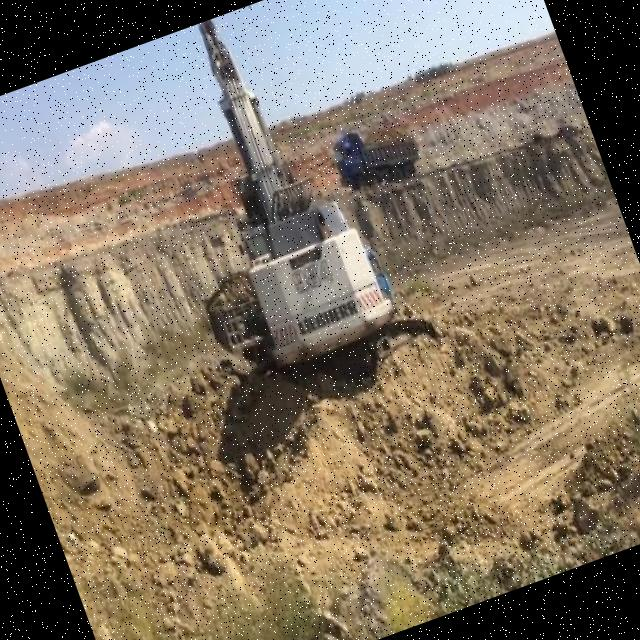Dump Truck: (322, 104, 426, 201)
Excavator: (150, 0, 443, 405)
